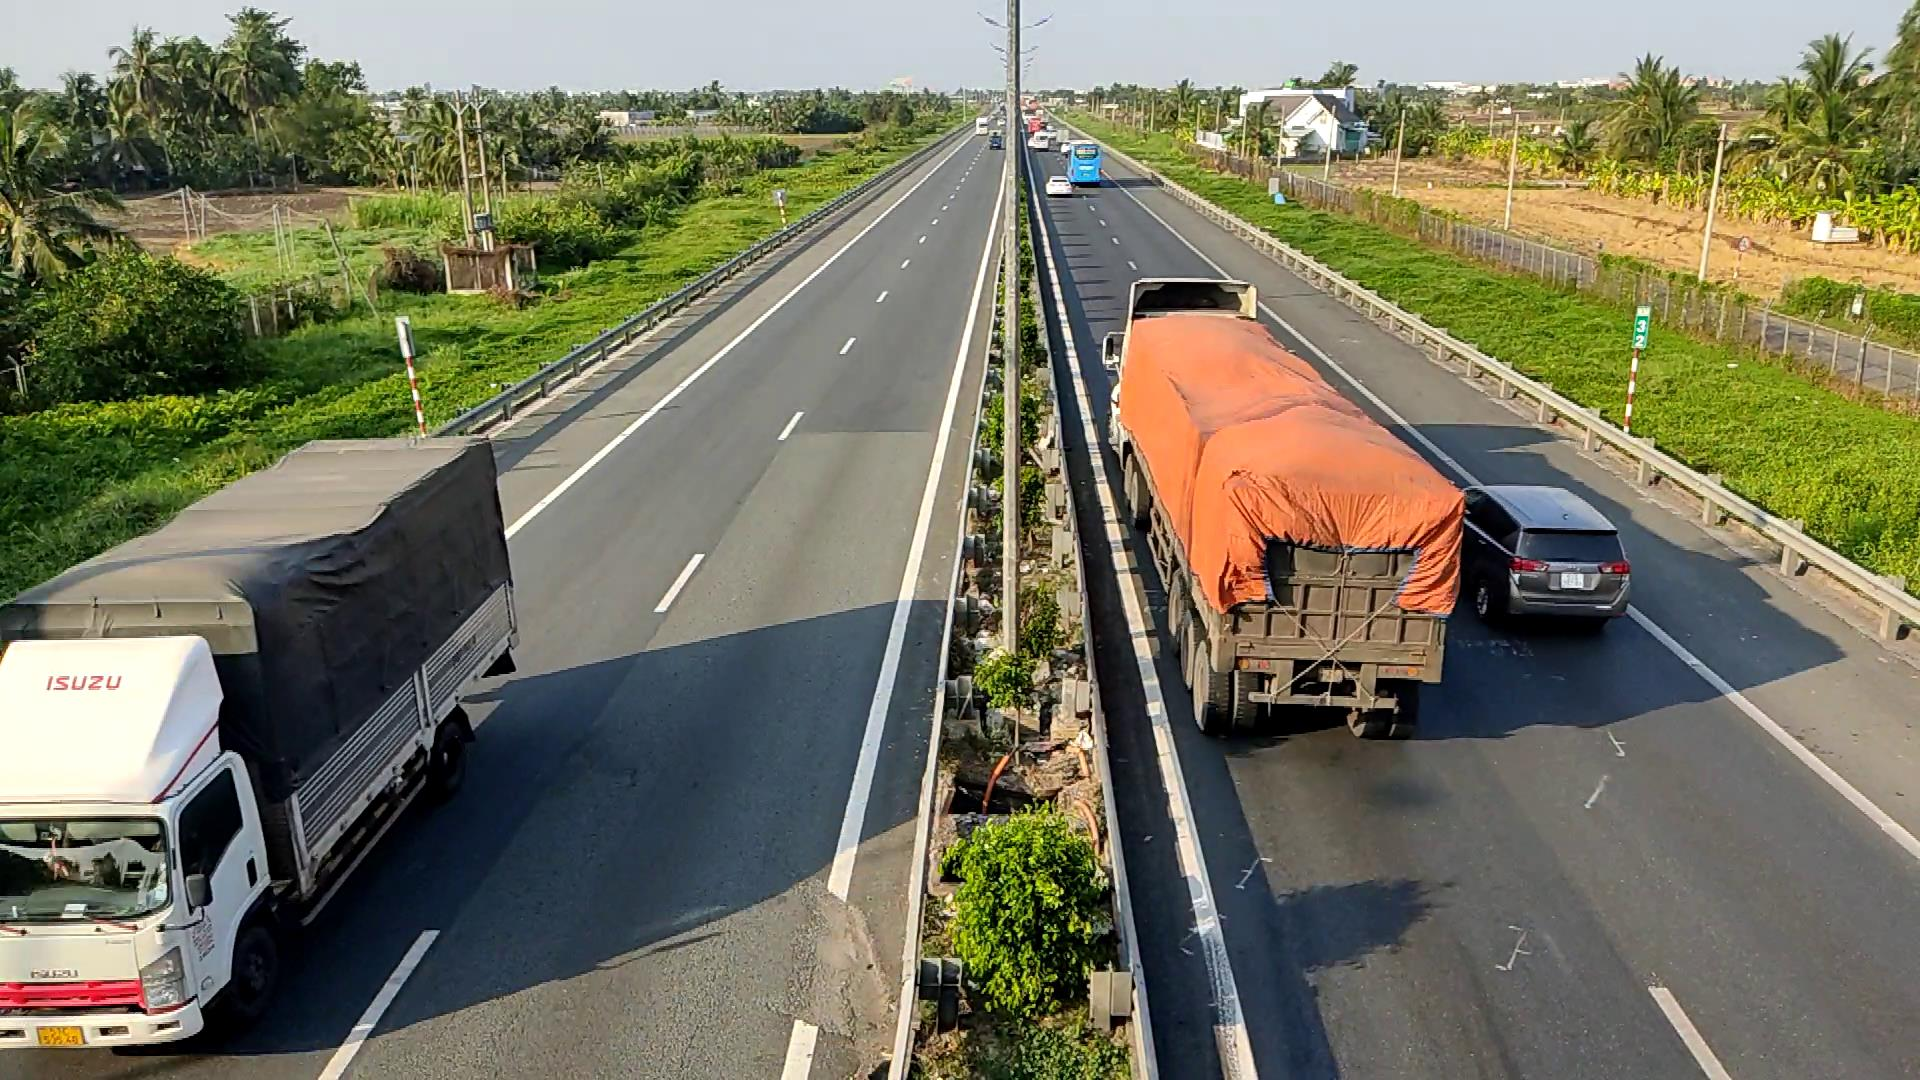car: (1457, 483, 1630, 629)
truck: (0, 431, 520, 1052), (1106, 276, 1466, 738)
